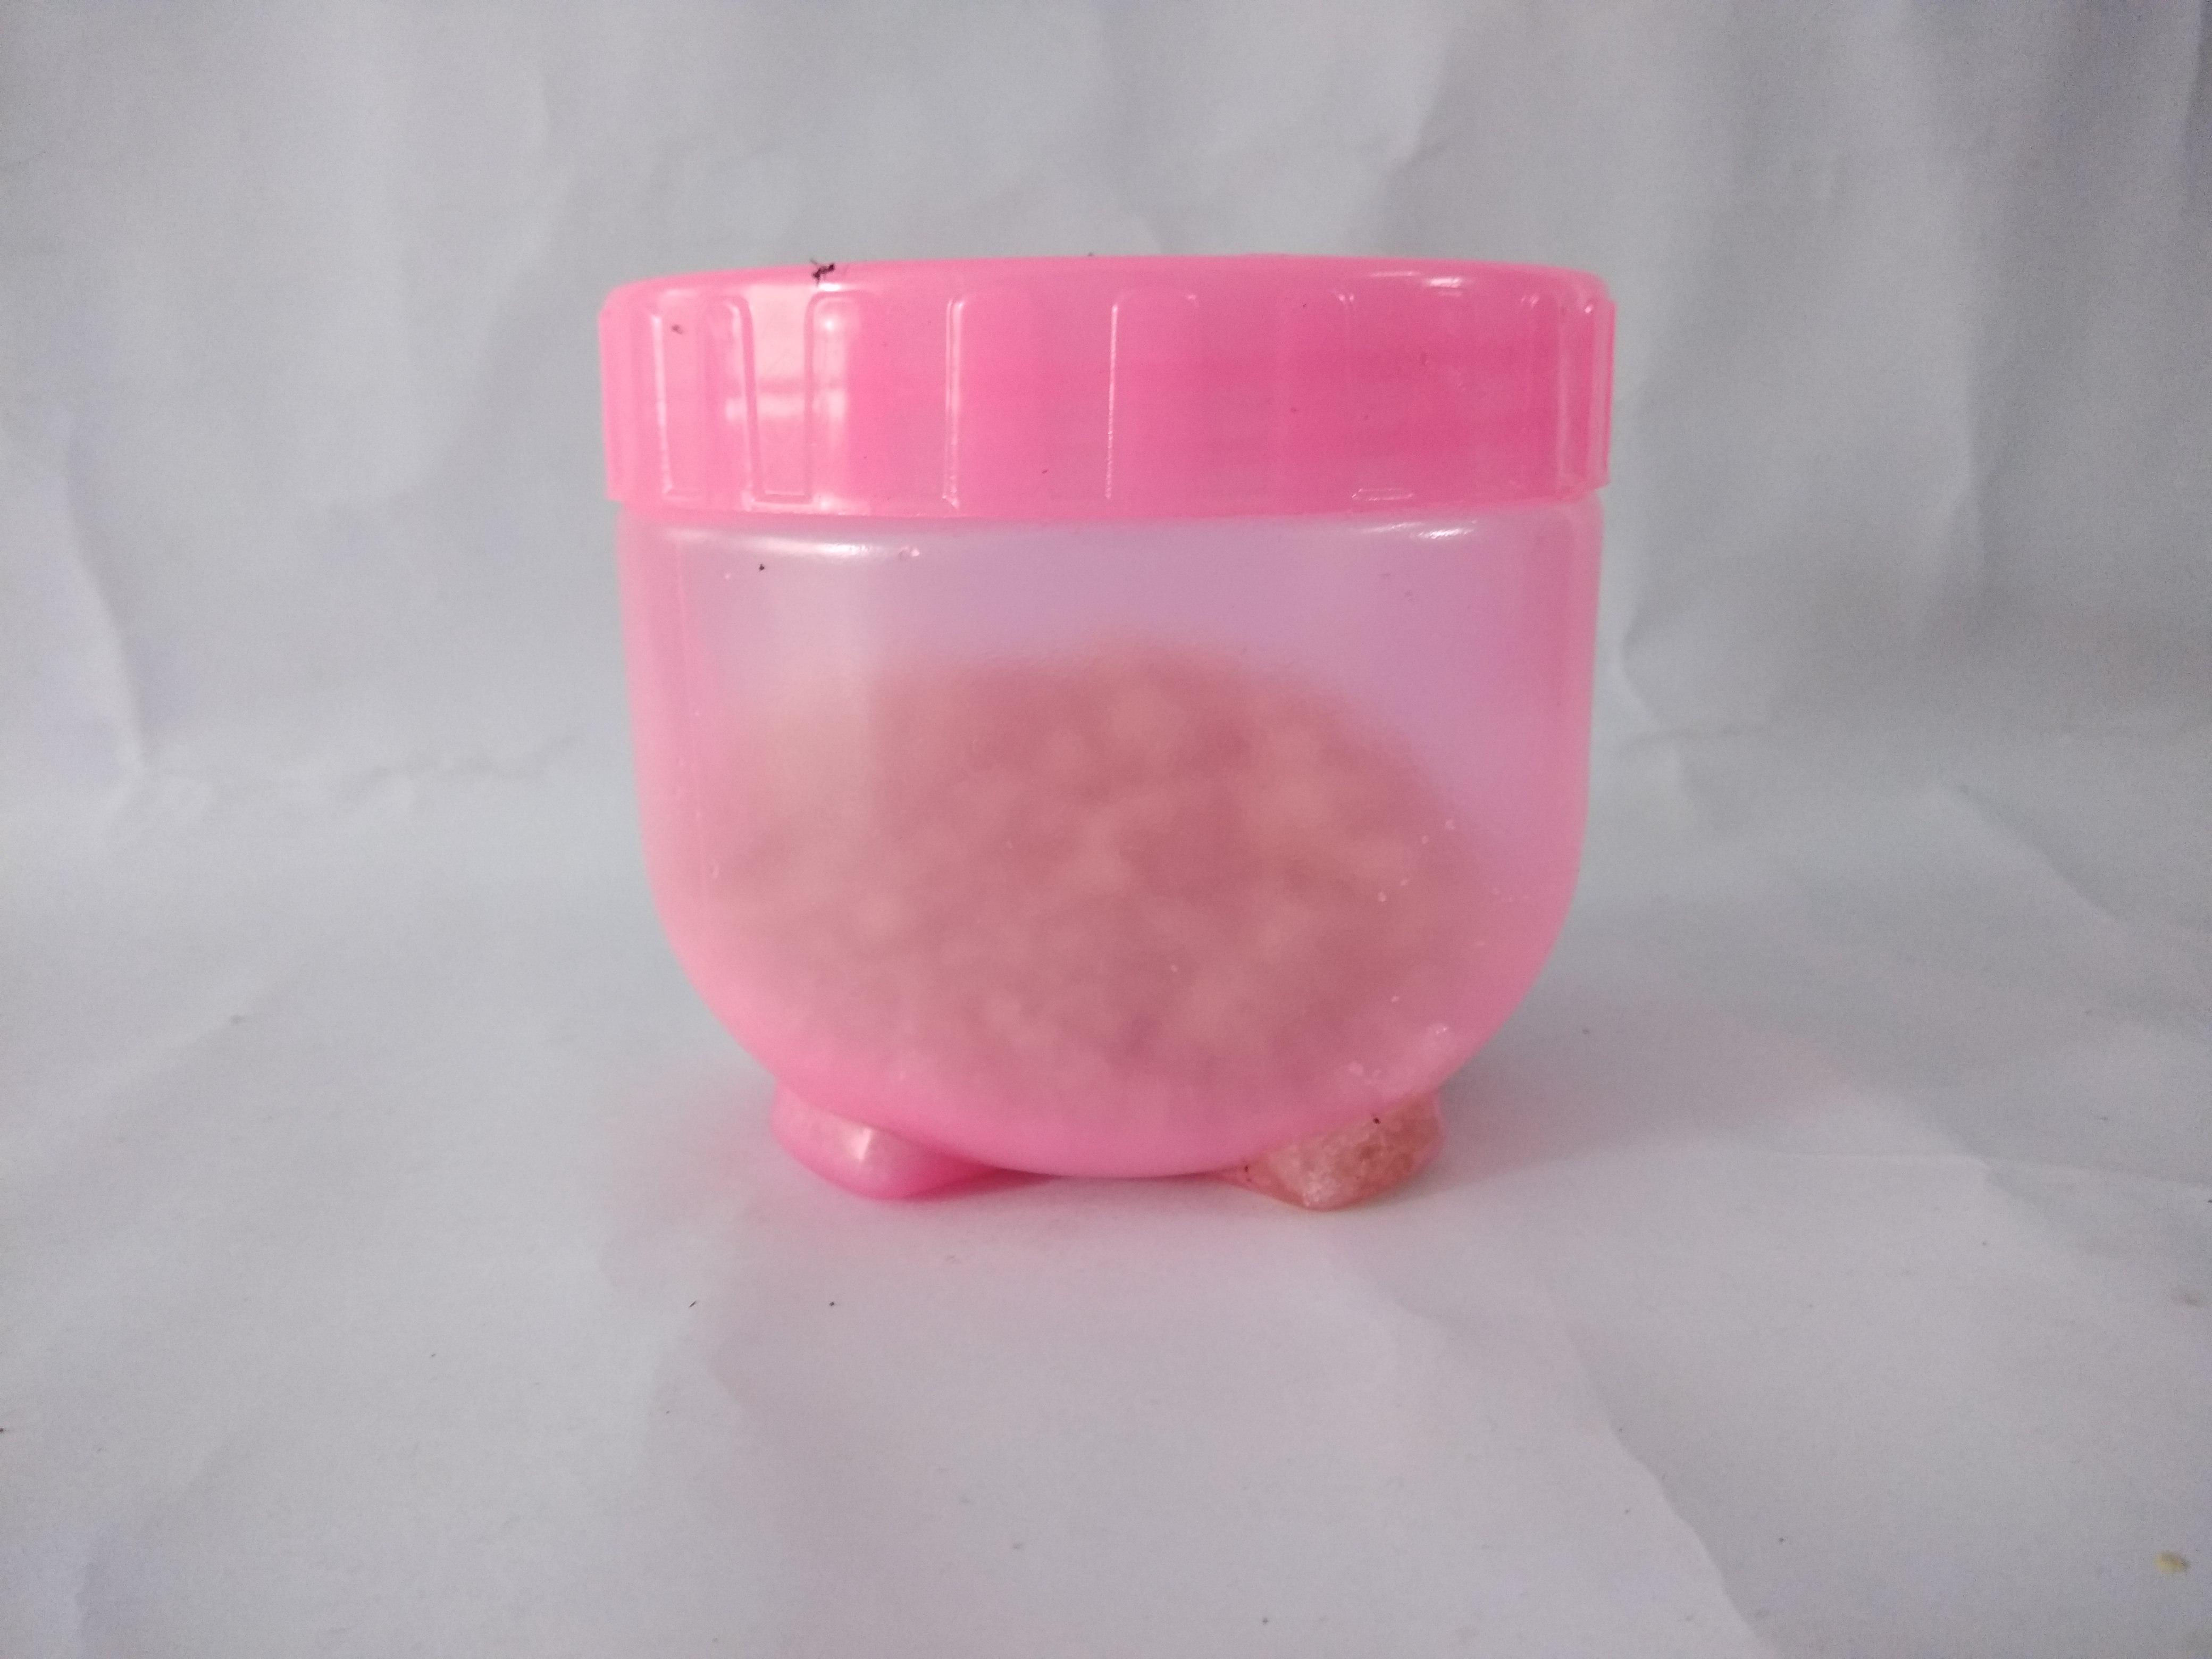PP: (599, 256, 1620, 1206)
